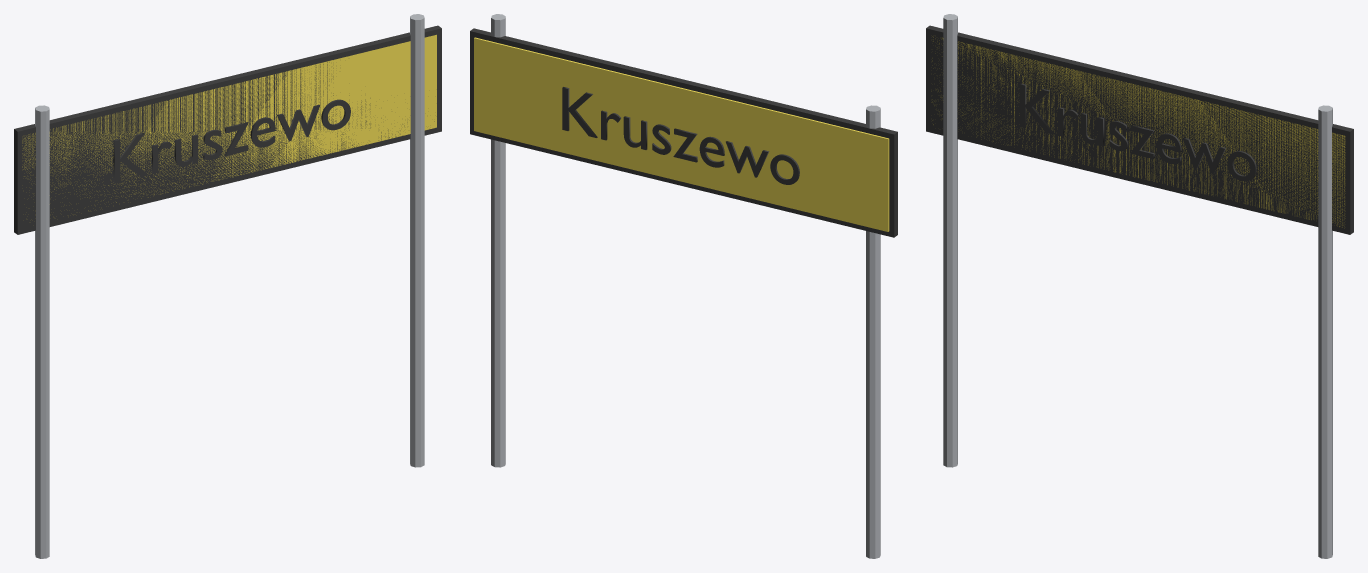
The model's file is Tablica_Kruszewo.fbx.
3 renders of one model, left to right at view 1: azimuth 30°, elevation 25°; view 2: azimuth 150°, elevation 25°; view 3: azimuth 330°, elevation 25°, orthographic.
Parts seen in each view (by area): view 1: Tablica_Kruszewo; view 2: Tablica_Kruszewo; view 3: Tablica_Kruszewo.
Part boxes in pixels (left/top/right/bottom): Tablica_Kruszewo: left=14, top=14, right=441, bottom=558; Tablica_Kruszewo: left=470, top=14, right=897, bottom=558; Tablica_Kruszewo: left=926, top=14, right=1353, bottom=558.
Size of the model in its own units: 2.58 by 2.6 by 0.108.
